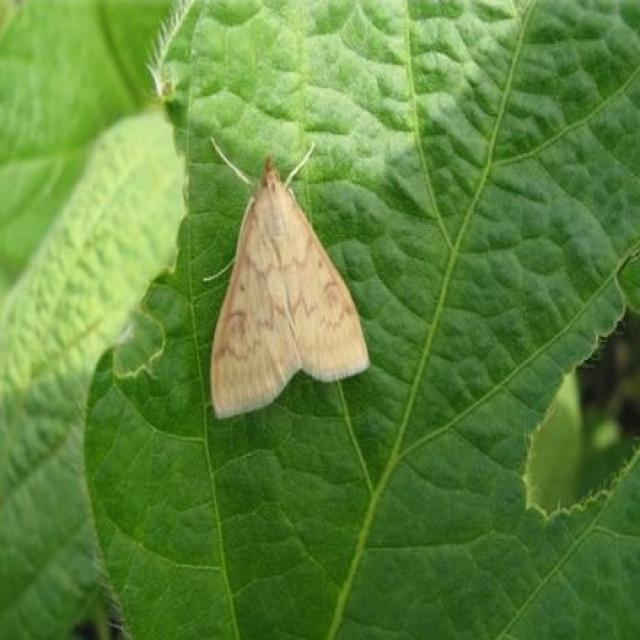cornborer-Adult-: (184, 124, 381, 430)
